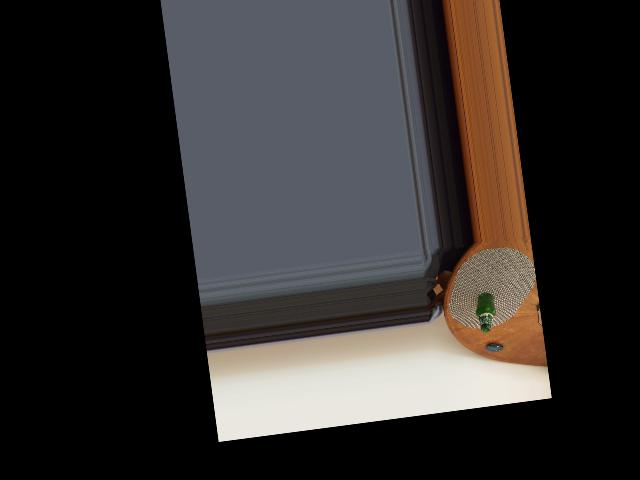beer: (472, 292, 499, 333)
